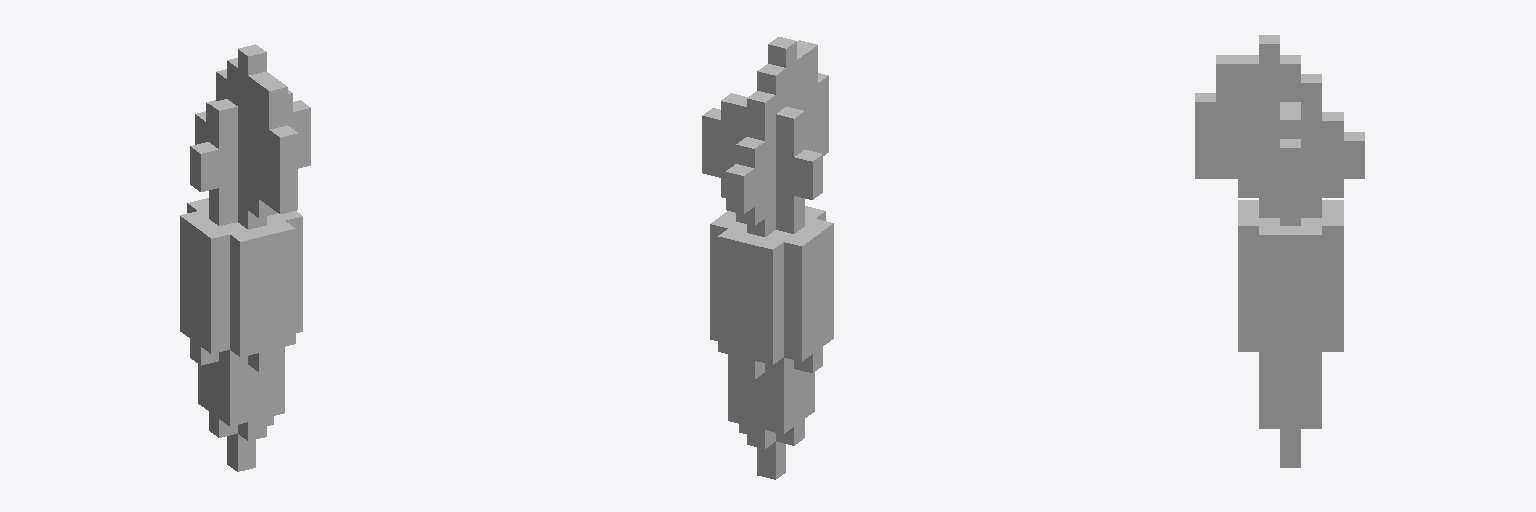
Rendered from Torch1.obj.
3 renders of one model, left to right at view 1: azimuth 30°, elevation 25°; view 2: azimuth 150°, elevation 25°; view 3: azimuth 270°, elevation 25°, orthographic.
Visible parts, largest first — view 1: object 1; view 2: object 1; view 3: object 1.
Part boxes in pixels (bbox=[...]): object 1: bbox=[180, 44, 310, 471]; object 1: bbox=[702, 37, 833, 479]; object 1: bbox=[1195, 35, 1364, 467].
Bounding box in the file's own units: 0.6 × 2.2 × 0.8.